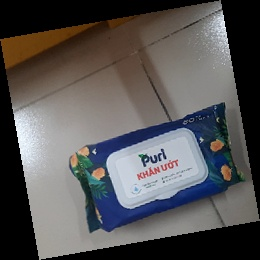Puri Xanh: (69, 101, 249, 233)
